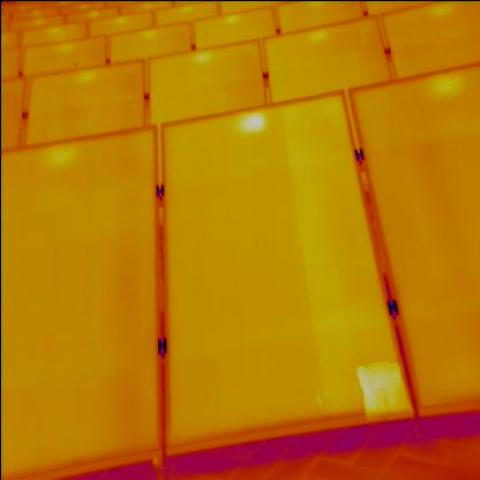fault: (354, 367, 408, 410), (245, 113, 264, 132)
